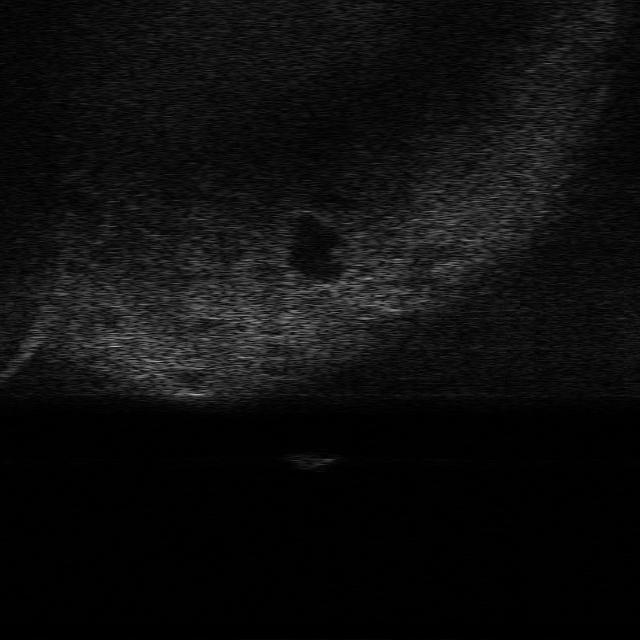cube: (285, 450, 339, 471)
